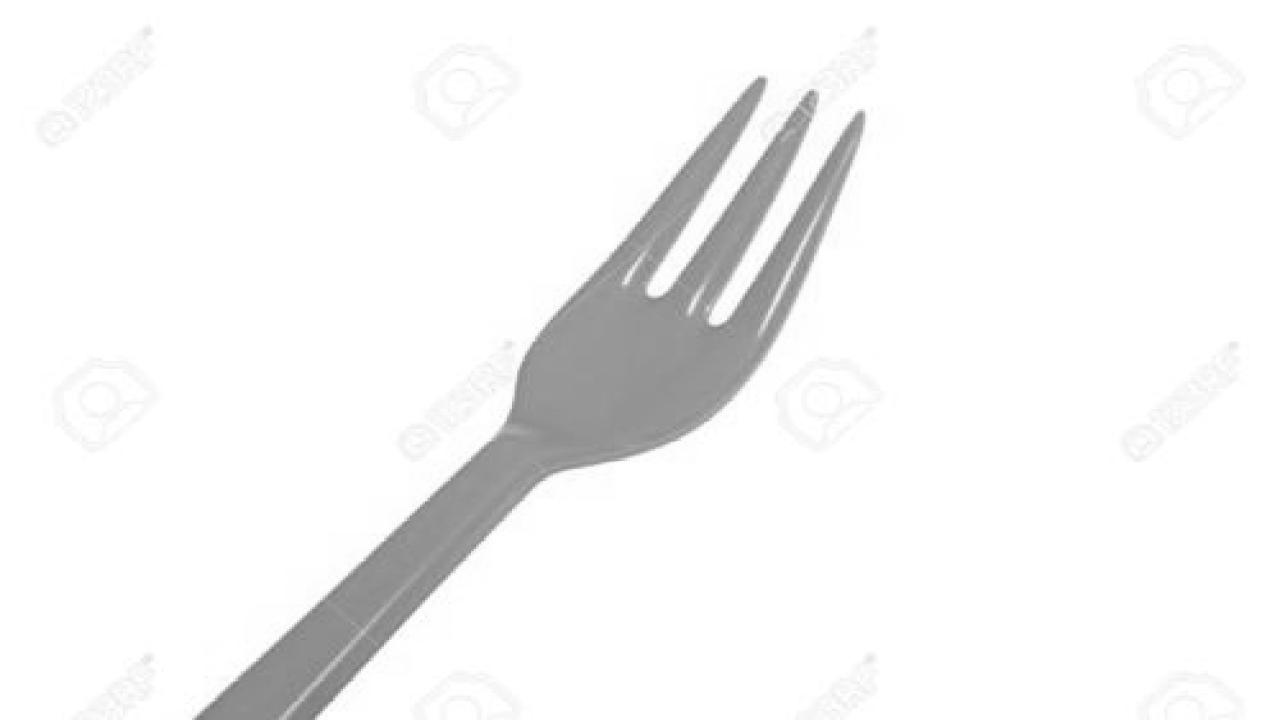fork: (87, 72, 868, 718)
